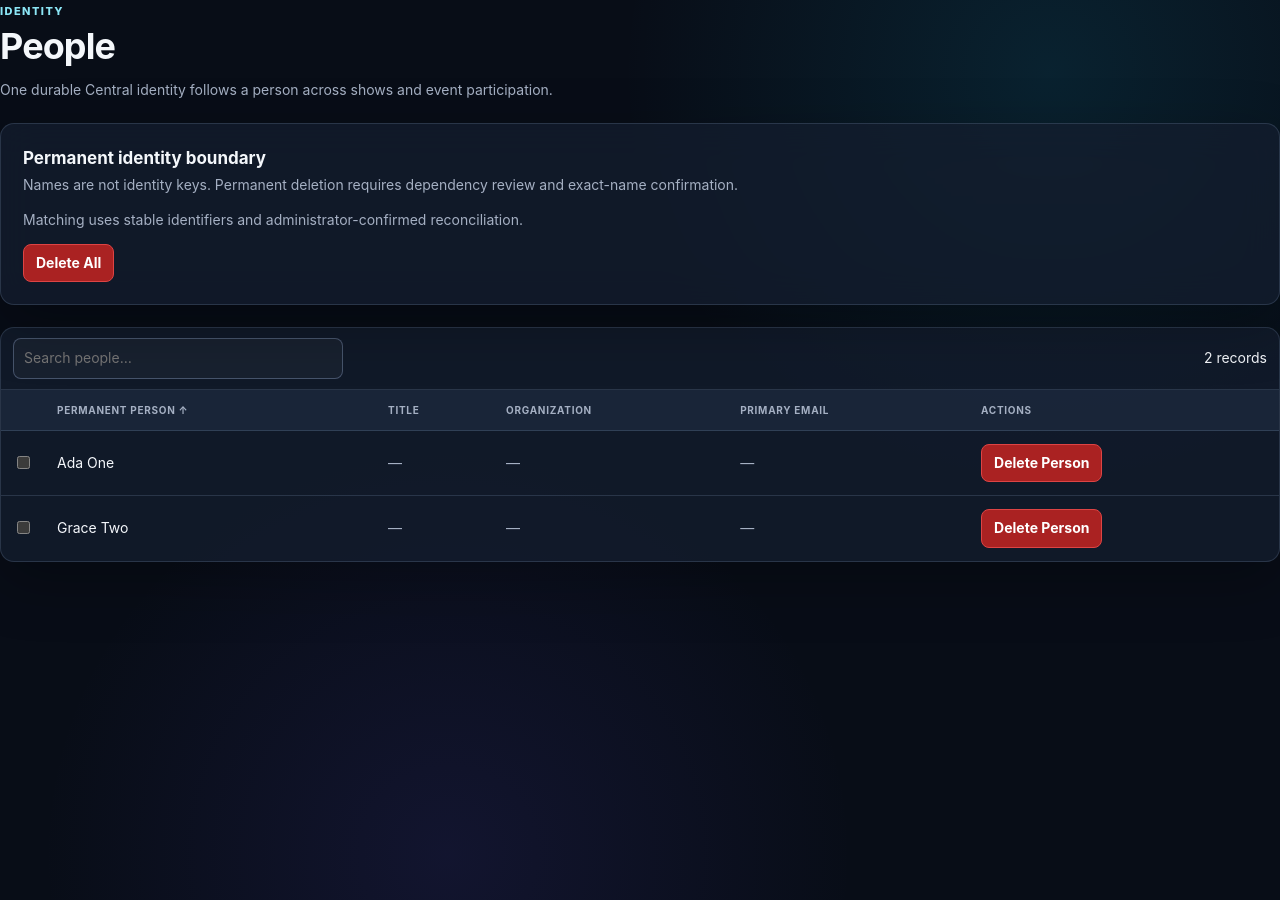
Test: surfaces a safe API error without reporting success
Click the button "Delete All" at coordinates (69, 263), box [23, 244, 114, 282]
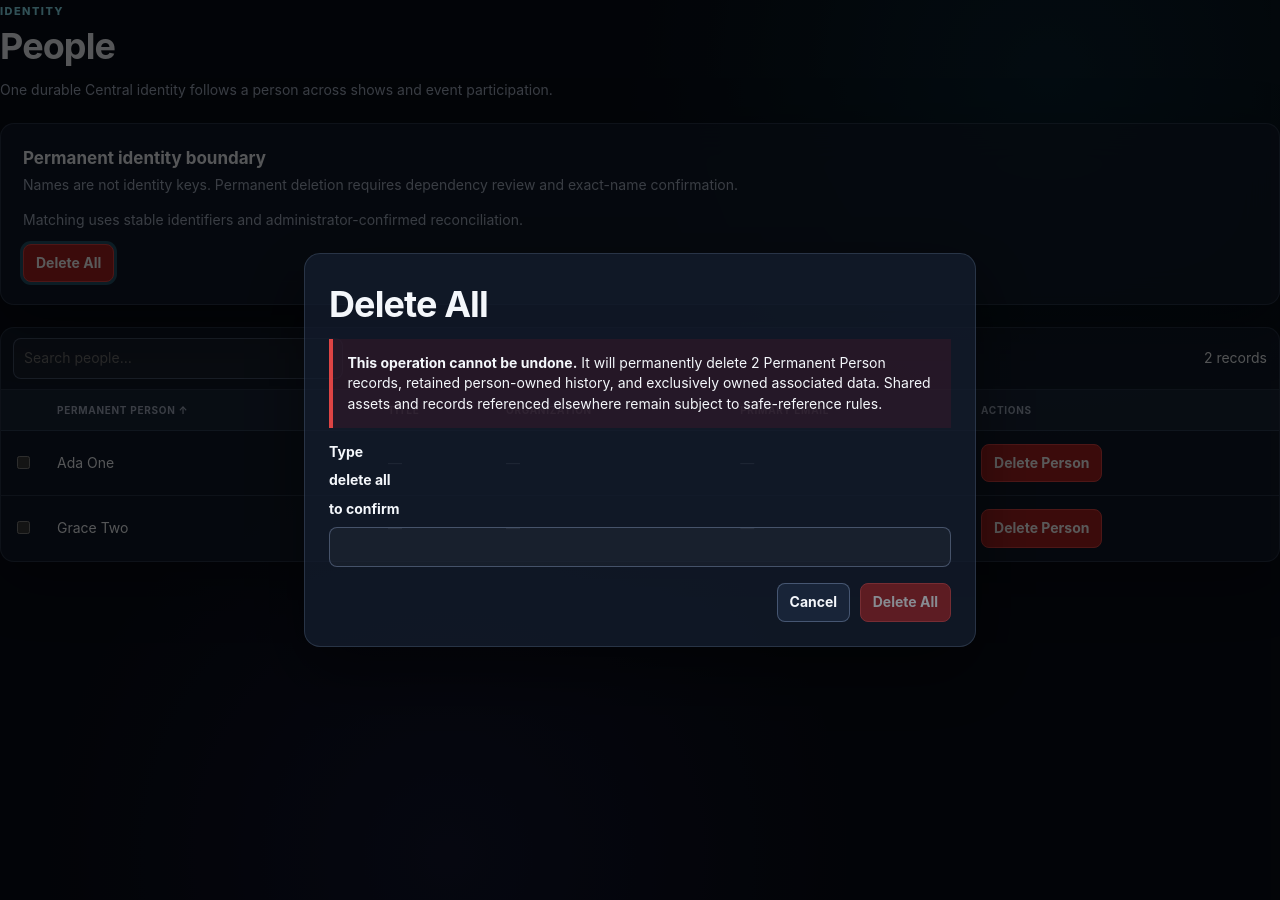
Type "delete all" into the field labelled "Type delete all to confirm" at coordinates (640, 547), box [329, 527, 951, 567]
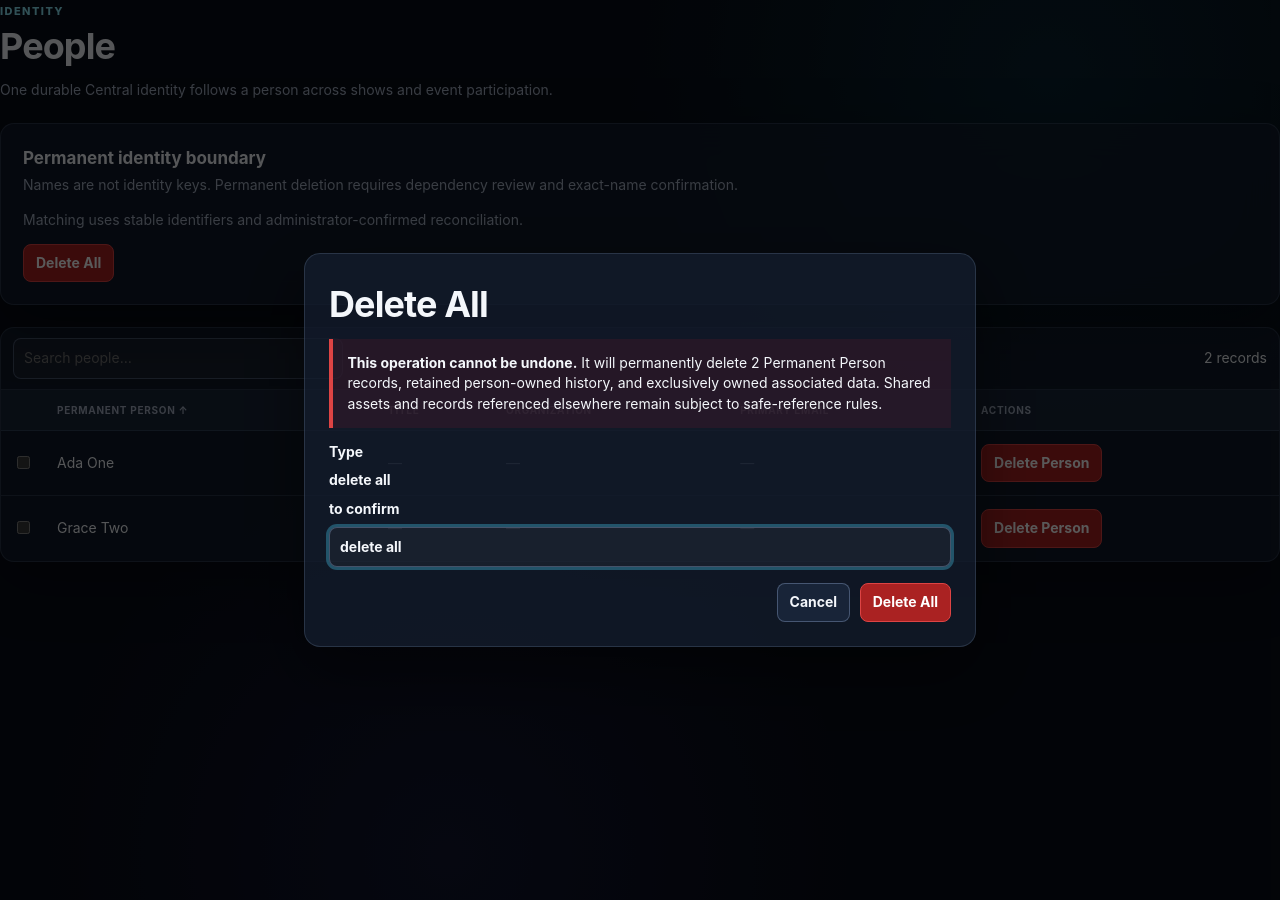
Click the button "Delete All" at coordinates (905, 603), box [860, 583, 951, 622]
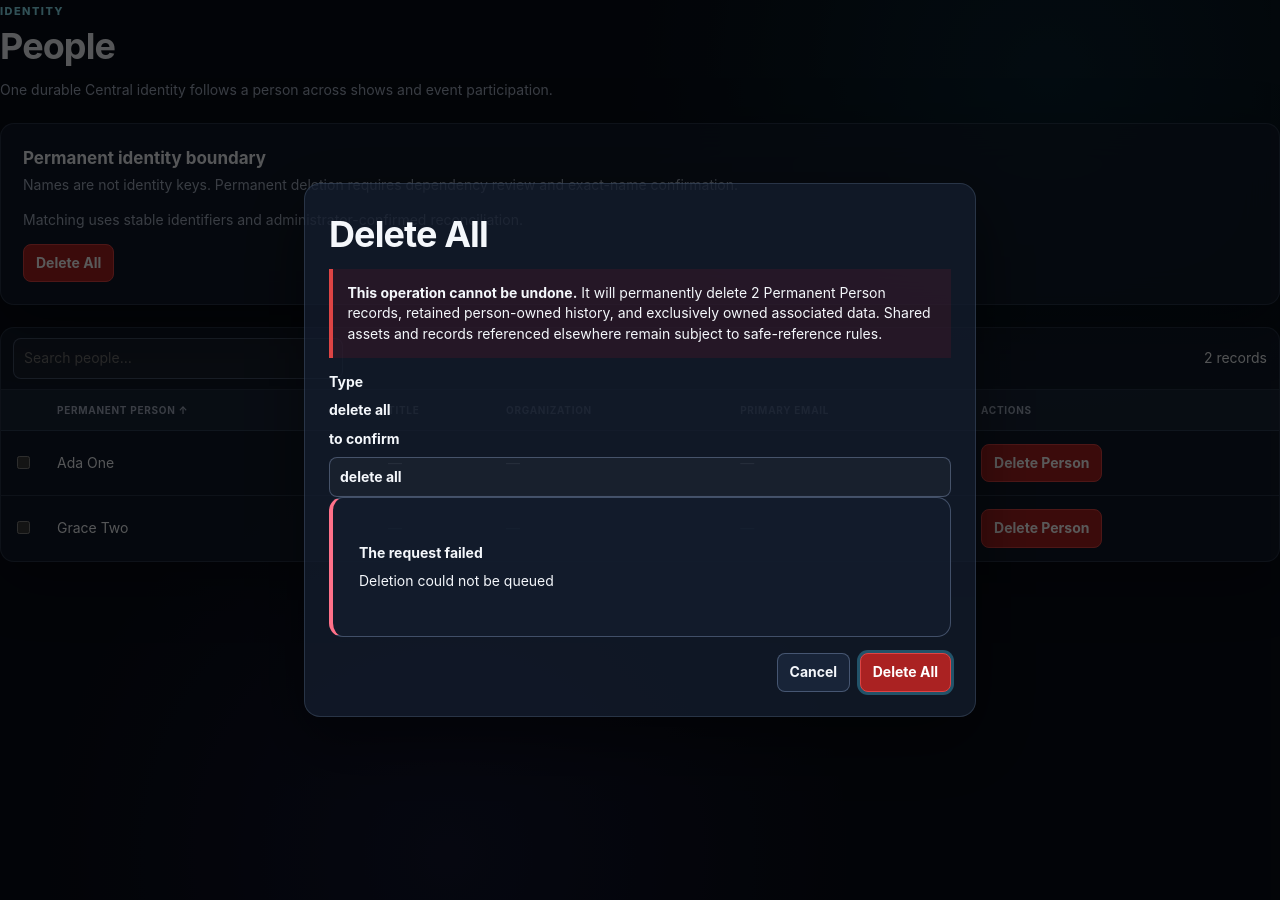
Expected: the message shows "Deletion could not be queued", [359, 572, 554, 589]
